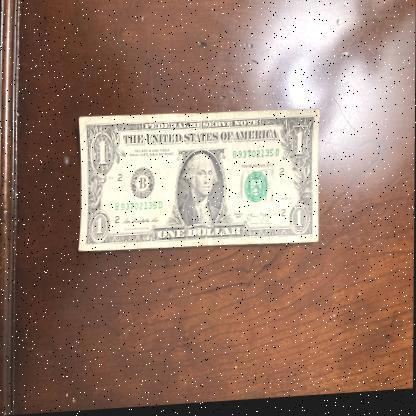one-front: (76, 104, 320, 260)
